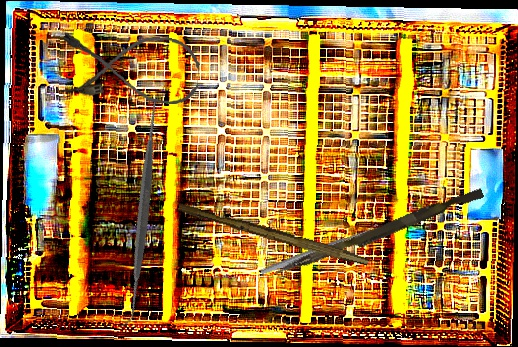Cannula: (59, 29, 202, 106)
Pusher: (273, 182, 485, 284)
Scalpel Handle: (176, 201, 371, 267)
Spatula Surgical: (25, 91, 261, 329)
Surgical Spoon: (259, 223, 381, 277)
